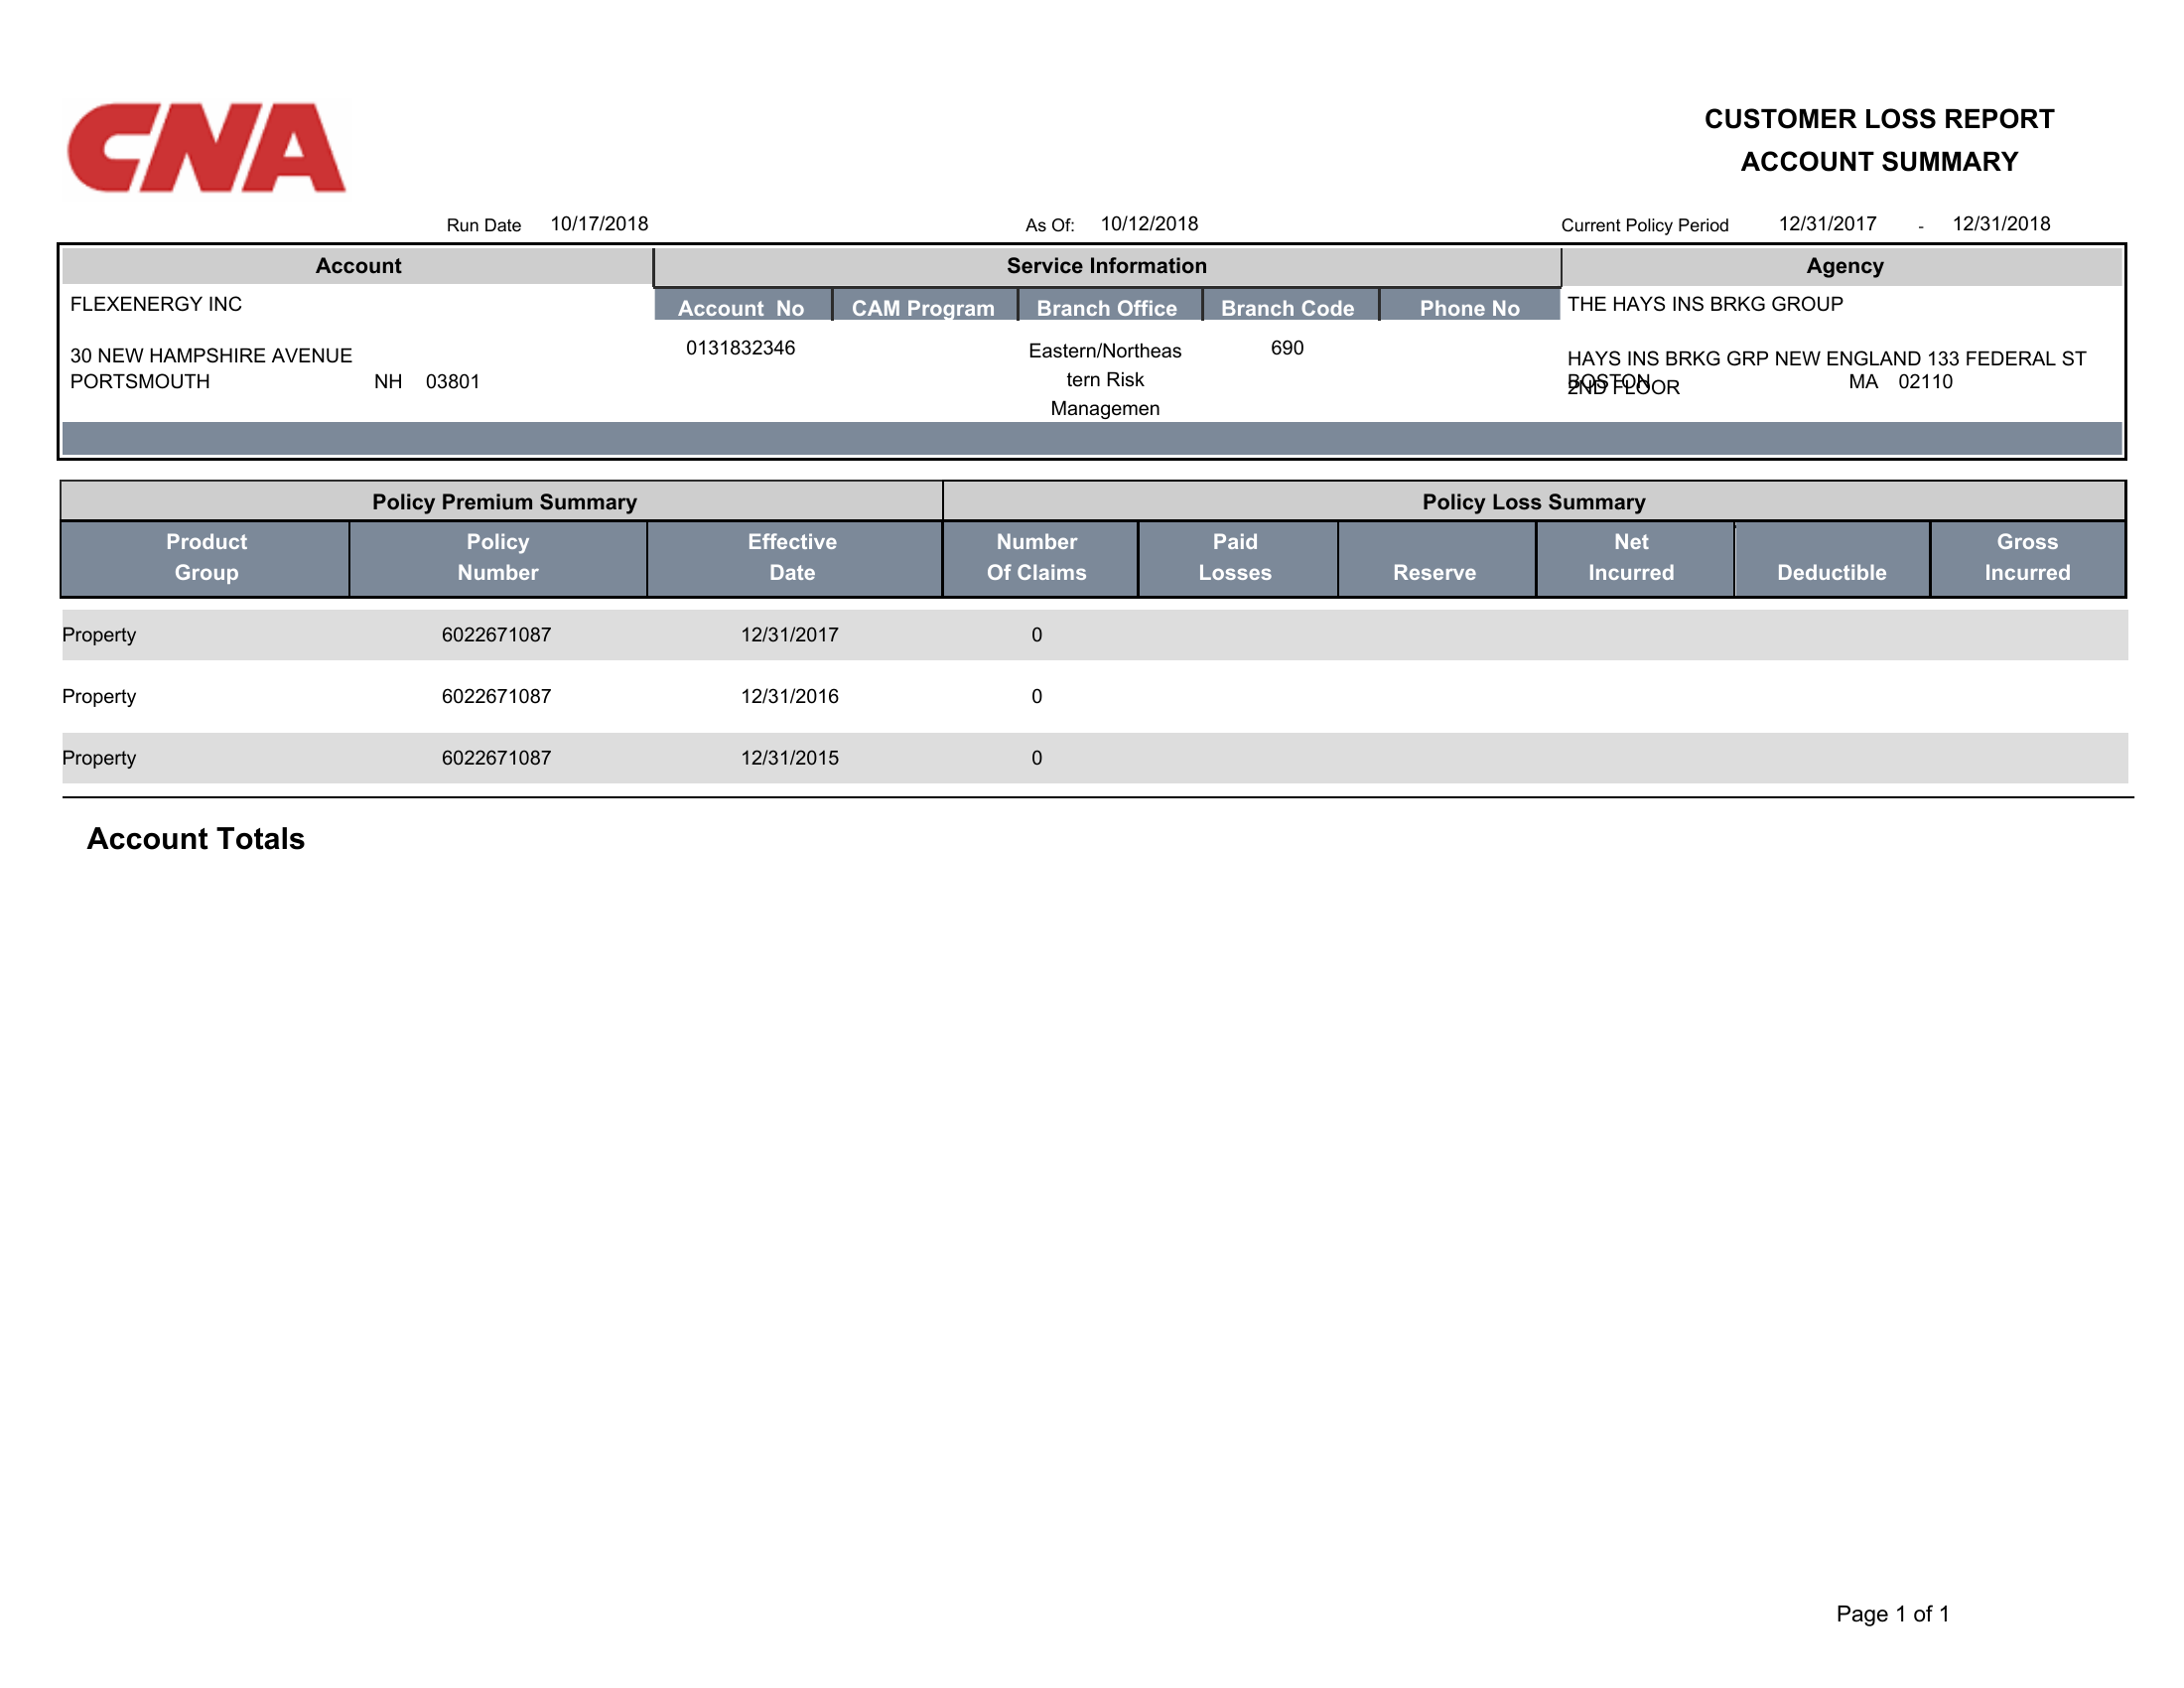No-loss: (46, 472, 2163, 817)
